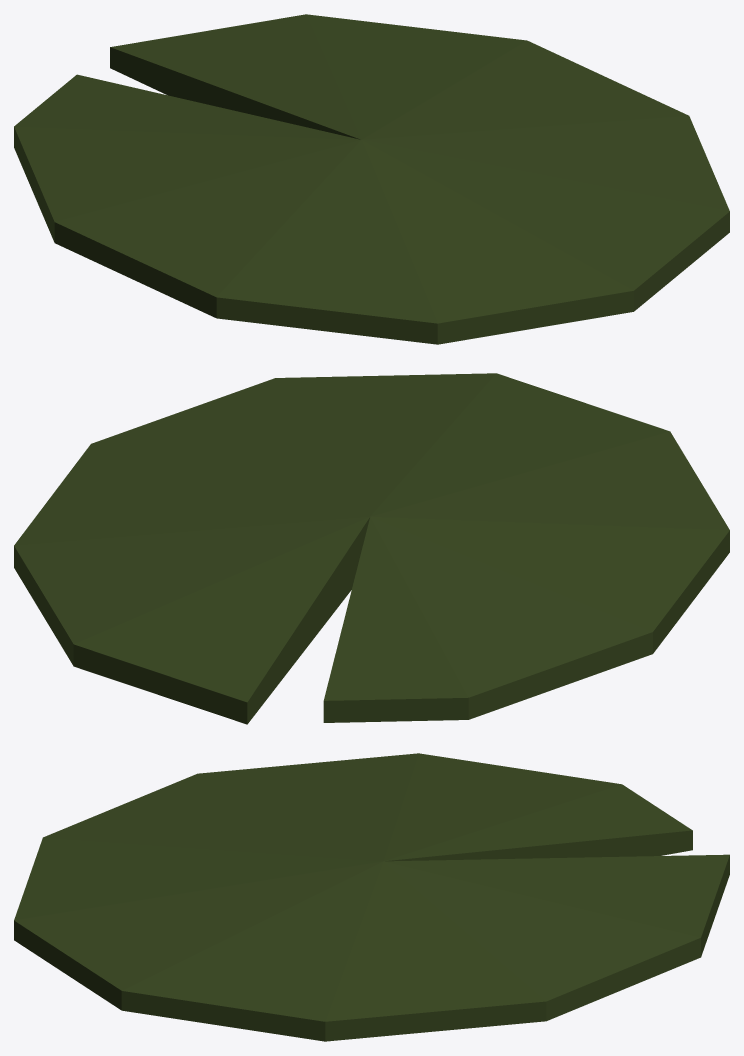
The model's file is Water Lily Single.fbx.
The picture shows the model from 3 angles, top to bottom: view 1: azimuth 30°, elevation 25°; view 2: azimuth 150°, elevation 25°; view 3: azimuth 270°, elevation 25°; orthographic projection. The views are drawn at different scales.
Parts seen in each view (by area): view 1: Water Lily Single; view 2: Water Lily Single; view 3: Water Lily Single.
Boxes of the visible parts, left/top/right/bottom form: Water Lily Single: left=14, top=14, right=729, bottom=344; Water Lily Single: left=14, top=373, right=729, bottom=724; Water Lily Single: left=14, top=753, right=729, bottom=1041.
Bounding box in the file's own units: 0.3845 × 0.0294 × 0.4333.
